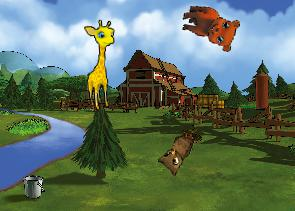bear: (177, 3, 241, 53)
giraffe: (83, 19, 120, 110)
owl: (154, 124, 196, 177)
